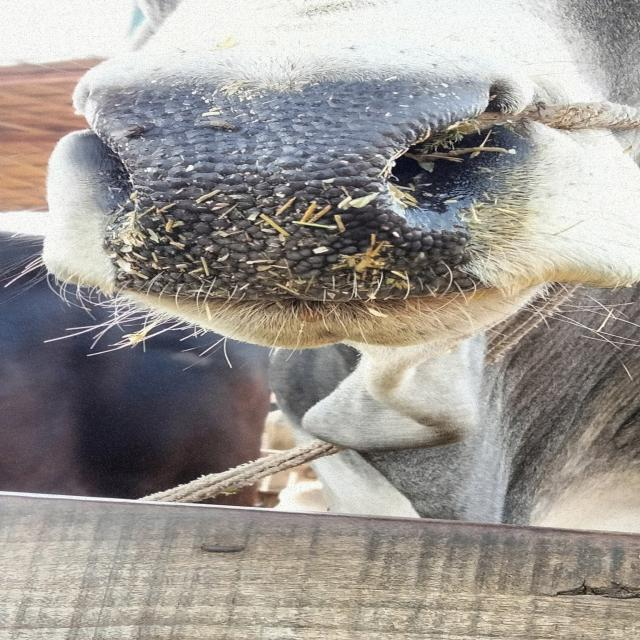muzzles: (67, 66, 560, 314)
